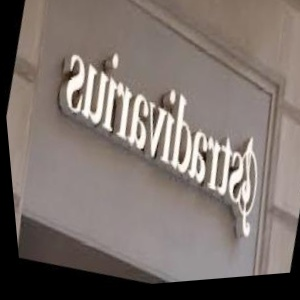stradivarius: (245, 113, 300, 176)
